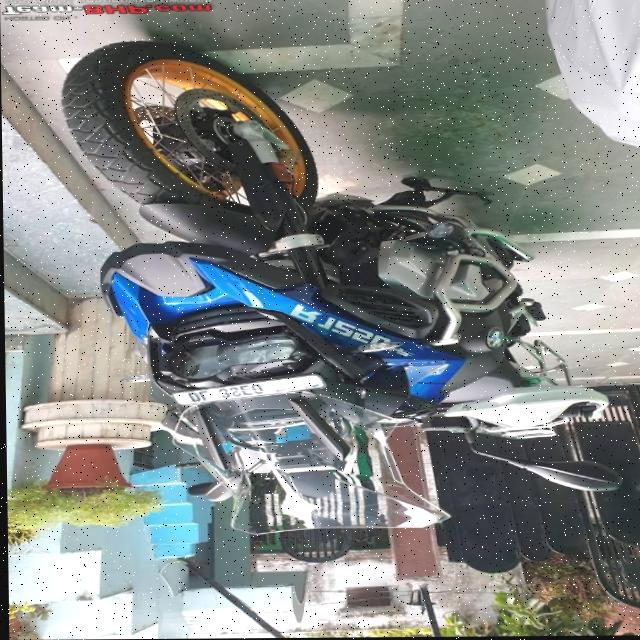plate: (169, 374, 325, 408)
